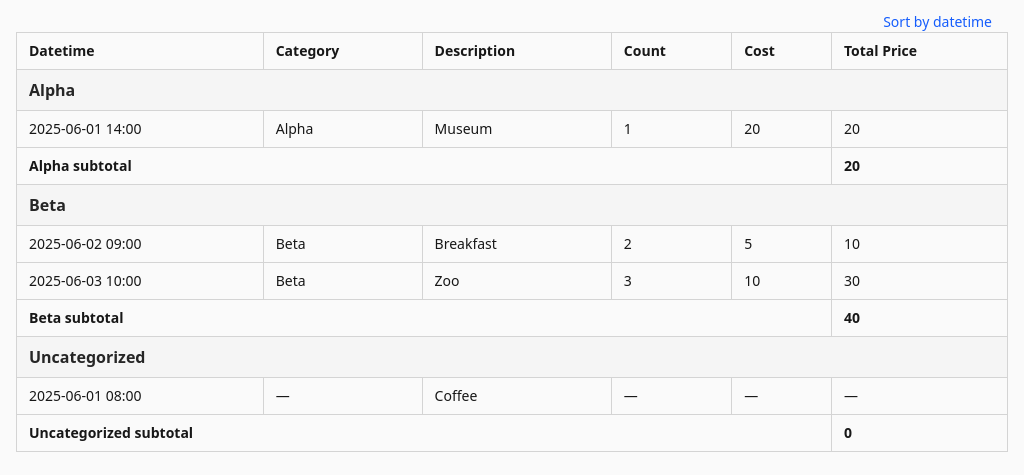
Scenario: ActivityTable › activates a text input when description cell is clicked
Step 1. Click the text "Museum" → click(517, 129), box [422,110,611,148]
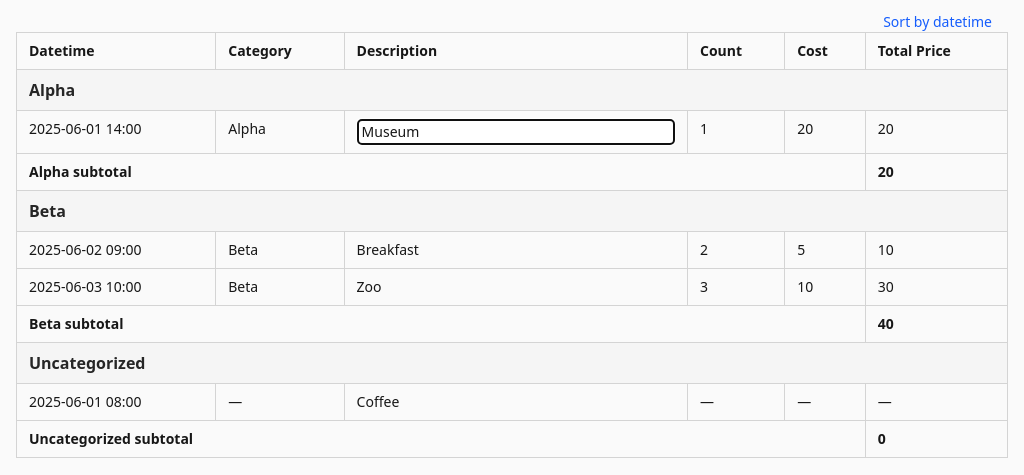
Check: the field named "description" is shown, box [357,119,675,145]
